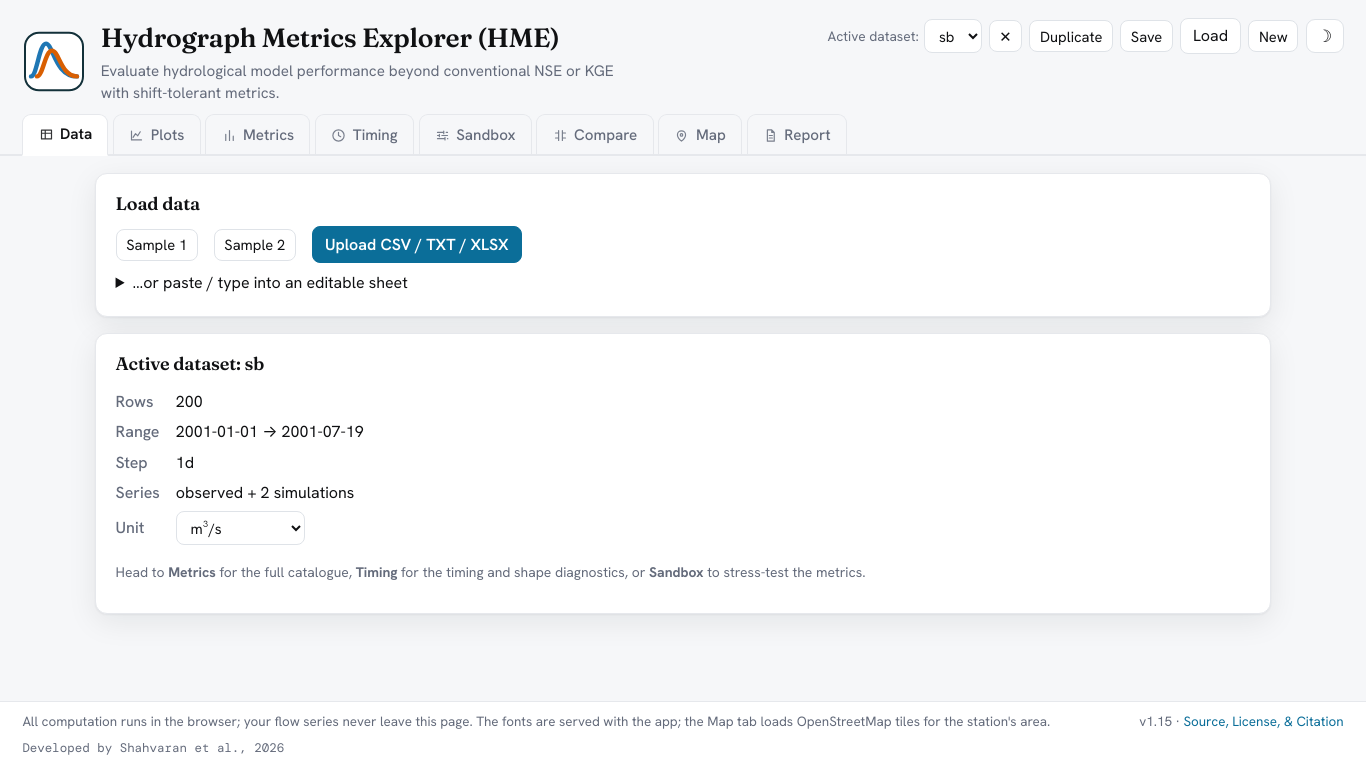
Test case: claims-09: the Sandbox readout includes R²
The image size is (1366, 768).
Click the tab "Sandbox" at (475, 135), box [419, 114, 532, 156]
(page scrolled)
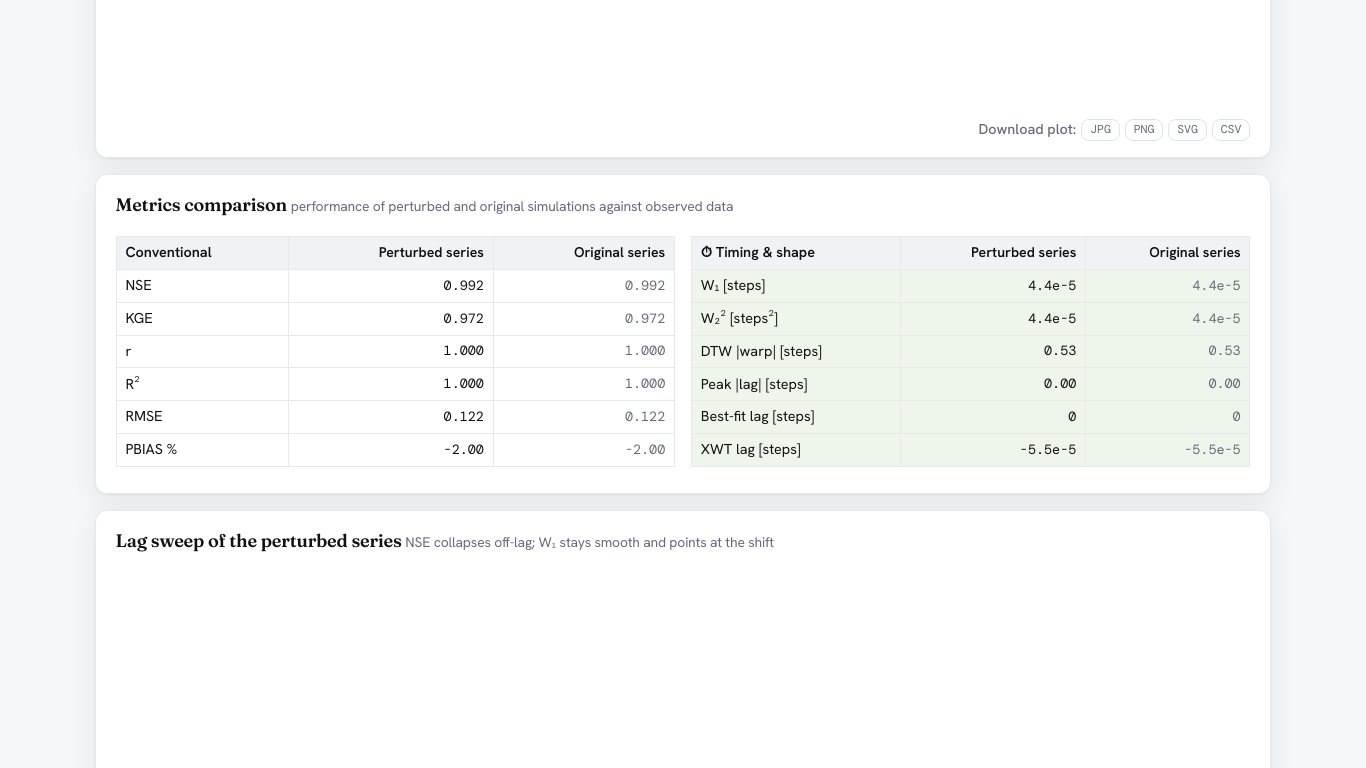
Now the heading "Lag sweep" is shown, box [116, 528, 405, 552]
Now the text "R²" is shown, box [116, 368, 289, 401]
